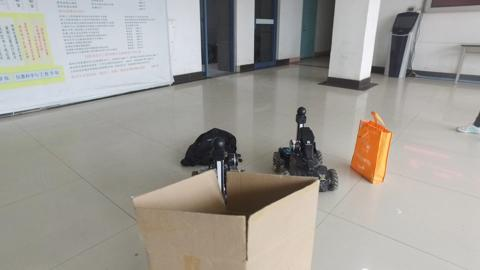bag: (355, 110, 388, 187)
chariot: (274, 106, 339, 192)
